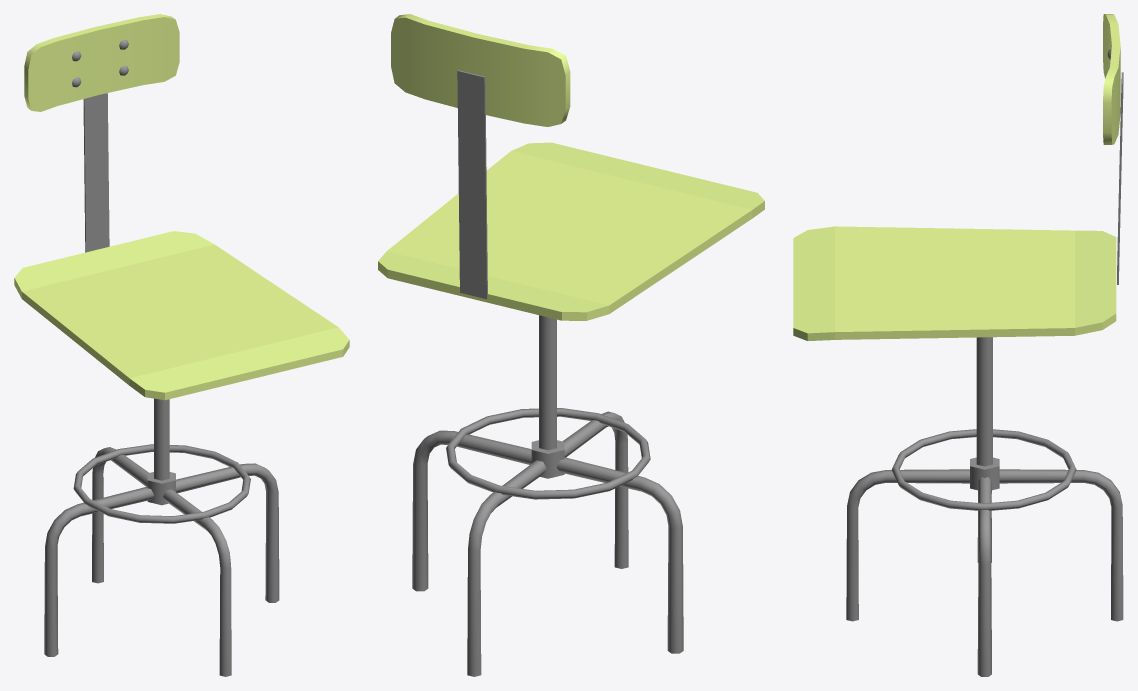
The model's file is SM_Chair.FBX.
The picture shows the model from 3 angles, left to right: view 1: azimuth 30°, elevation 25°; view 2: azimuth 150°, elevation 25°; view 3: azimuth 270°, elevation 25°; orthographic projection. The views are drawn at different scales.
Visible parts, largest first — view 1: Chair; view 2: Chair; view 3: Chair.
Boxes of the visible parts, x1=… form: Chair: x1=14, y1=14, x2=349, y2=676; Chair: x1=378, y1=14, x2=764, y2=676; Chair: x1=793, y1=14, x2=1123, y2=676.
Size of the model in its own units: 32.77 by 74.68 by 39.03.
